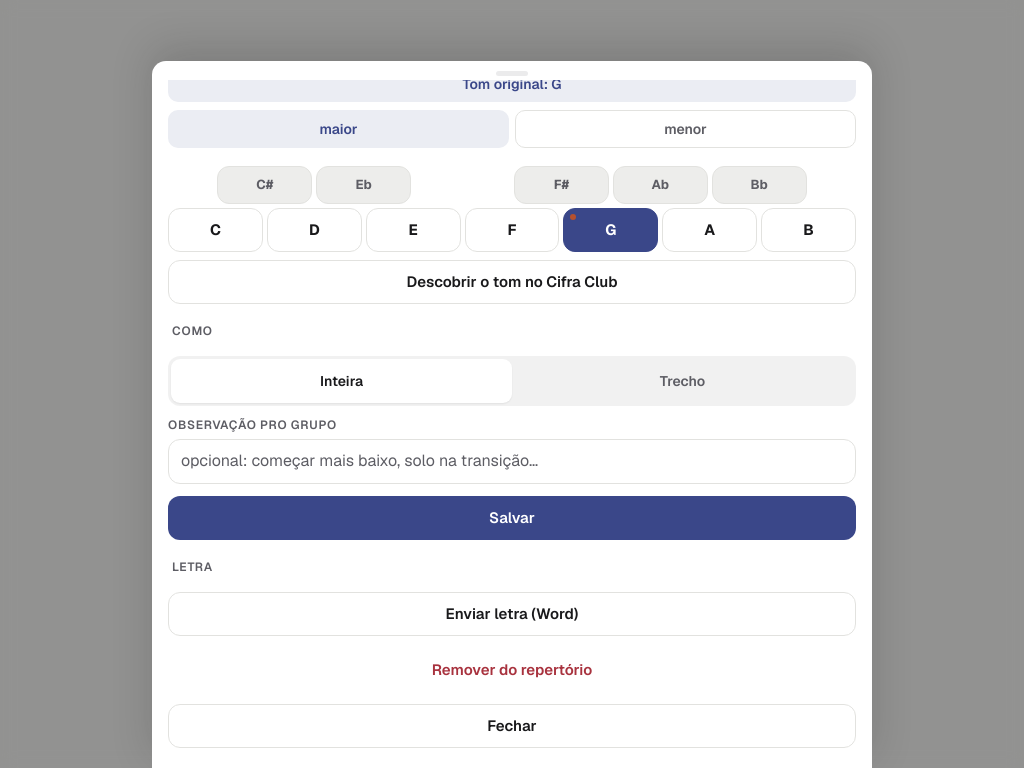
Test case: FolhaDoItem › na música sem anexo, oferece enviar a letra pela própria folha
(page scrolled)
Expected: the heading "Letra" is shown, [172,559,213,575]
Click the button "Enviar letra (Word)": (512, 614) [168,592,856,636]
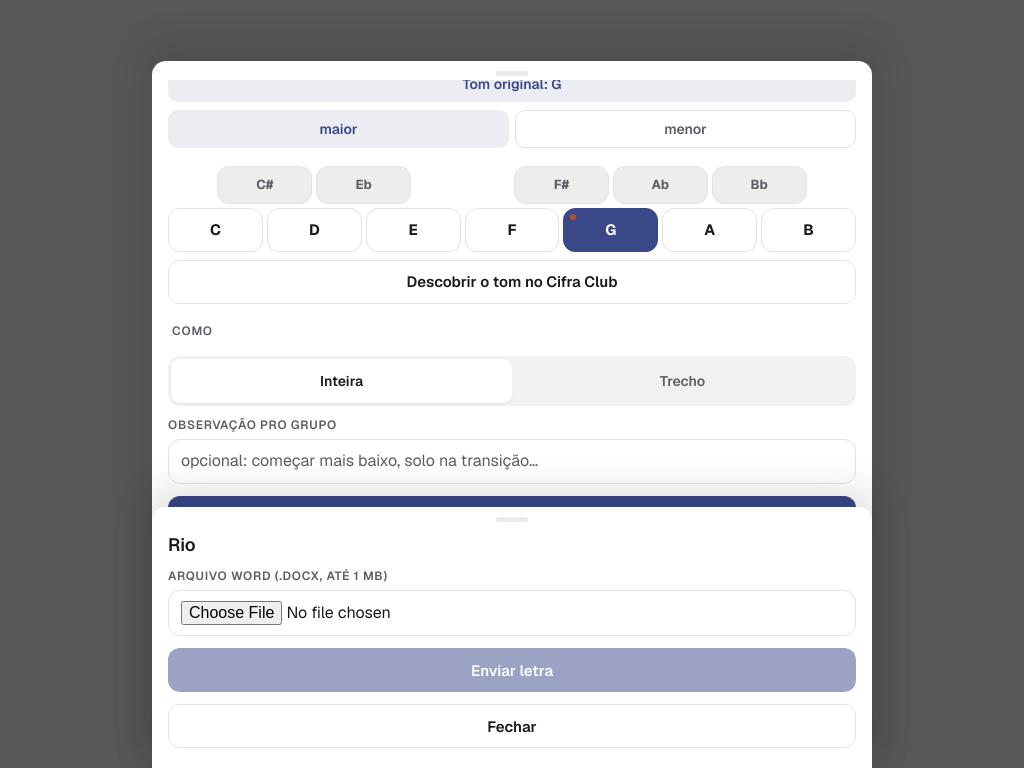
Now the text "Arquivo Word (.docx, até 1 MB)" is shown, box [168,567,388,583]
